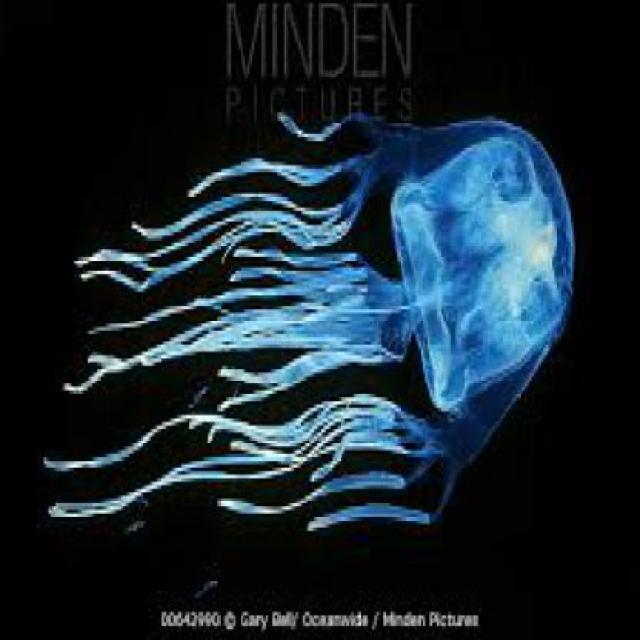Jellyfish: (36, 102, 573, 535)
